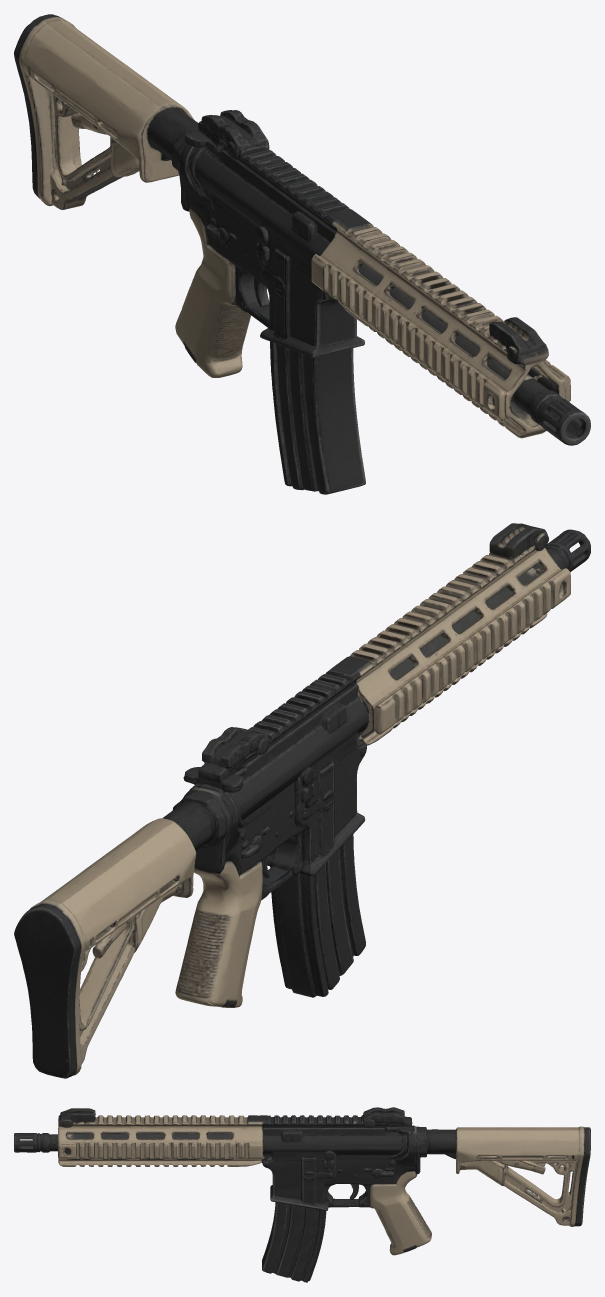
Rendered from desert_storm_rifle.high.glb.
The picture shows the model from 3 angles, top to bottom: view 1: azimuth 30°, elevation 25°; view 2: azimuth 150°, elevation 25°; view 3: azimuth 270°, elevation 25°; orthographic projection. The views are drawn at different scales.
Parts seen in each view (by area): view 1: model; view 2: model; view 3: model.
Part boxes in pixels (x1,y1,x2,y2): model: (14,14,590,494); model: (14,523,590,1078); model: (14,1107,590,1282).
Bounding box in the file's own units: 0.0679 × 0.276 × 0.8602.
Materials: 1 (1 with a texture image).
